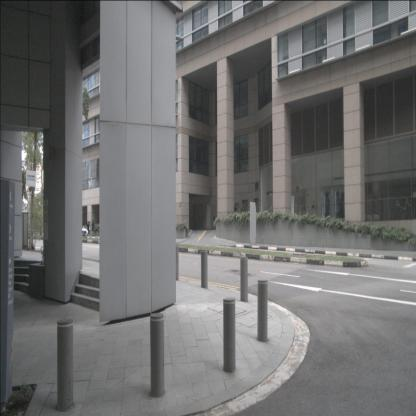human-pedestrian-adult: (91, 219, 95, 237), (86, 221, 90, 237), (89, 221, 92, 236)
vehicle-car: (75, 224, 88, 238)
